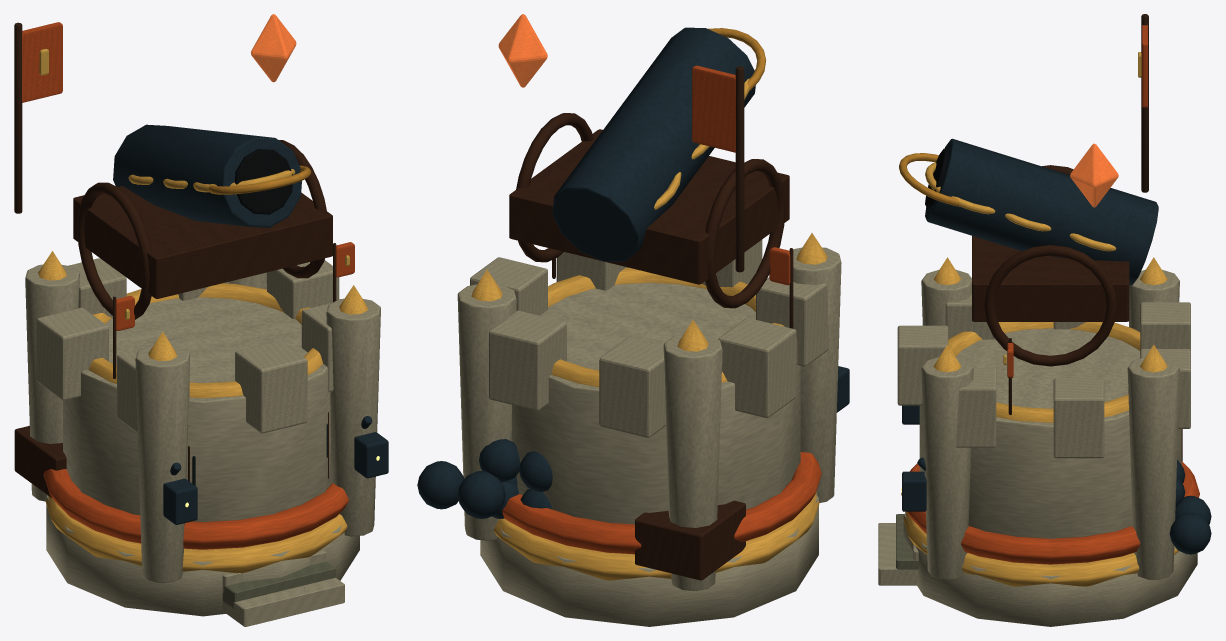
File: tower-cannon-3-0.glb
The picture shows the model from 3 angles, left to right: view 1: azimuth 30°, elevation 25°; view 2: azimuth 150°, elevation 25°; view 3: azimuth 270°, elevation 25°; orthographic projection. The views are drawn at different scales.
Visible parts, largest first — view 1: Foundation, Turret, cannon-L3-0; view 2: Foundation, Turret, cannon-L3-0; view 3: Foundation, Turret, cannon-L3-0.
Part boxes in pixels (<box>): Foundation: <box>14,22,388,626</box>; Turret: <box>73,14,332,319</box>; cannon-L3-0: <box>46,495,359,616</box>; Foundation: <box>417,65,849,590</box>; Turret: <box>498,14,789,308</box>; cannon-L3-0: <box>480,493,818,626</box>; Foundation: <box>878,14,1211,586</box>; Turret: <box>899,138,1158,366</box>; cannon-L3-0: <box>903,512,1197,626</box>.
Size of the model in its own units: 1.71 by 3.09 by 1.91.
Materials: 16 (16 with a texture image).
